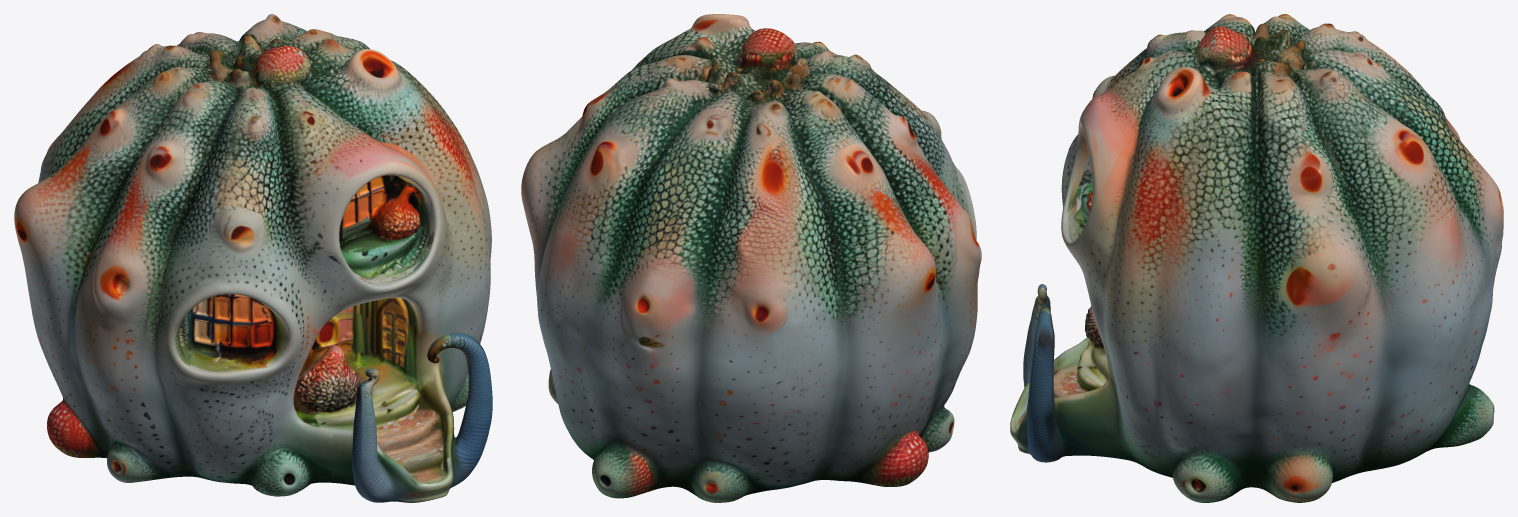
File: creepBarracks.glb
3 renders of one model, left to right at view 1: azimuth 30°, elevation 25°; view 2: azimuth 150°, elevation 25°; view 3: azimuth 270°, elevation 25°, orthographic. The views are drawn at different scales.
Parts seen in each view (by area): view 1: texture_v128_online.001; view 2: texture_v128_online.001; view 3: texture_v128_online.001.
Part boxes in pixels (box(x1,y1,x2,y2)): texture_v128_online.001: box(14, 14, 492, 502); texture_v128_online.001: box(521, 14, 981, 502); texture_v128_online.001: box(1010, 14, 1503, 502).
Size of the model in its own units: 1.93 by 1.75 by 2.
1 material, 1 textured.
